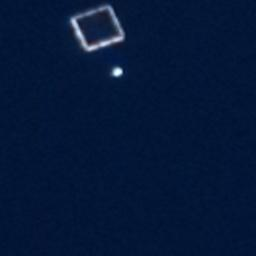square_solid: (66, 1, 132, 56)
